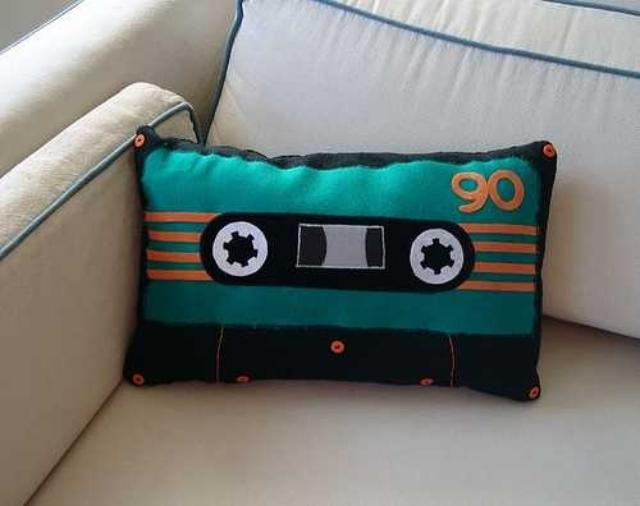pillow: (122, 126, 558, 402)
